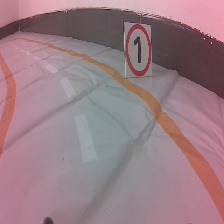limit: (122, 19, 153, 81)
